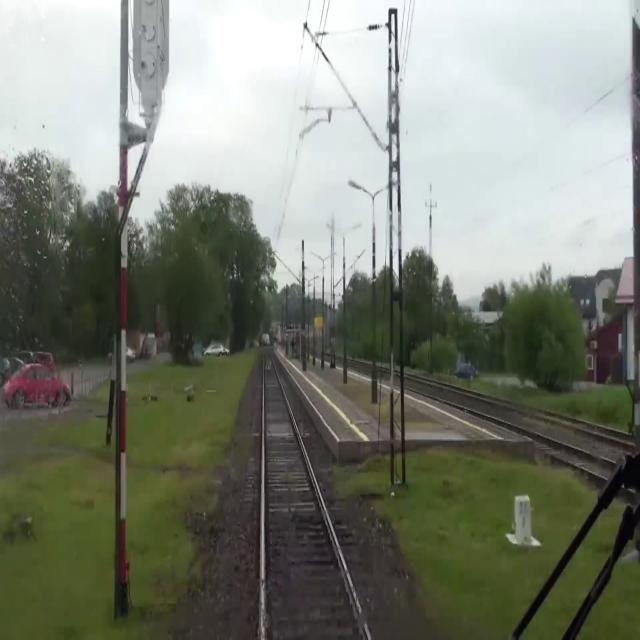rail-track: (265, 345, 366, 639), (410, 392, 633, 484), (587, 425, 633, 439)
